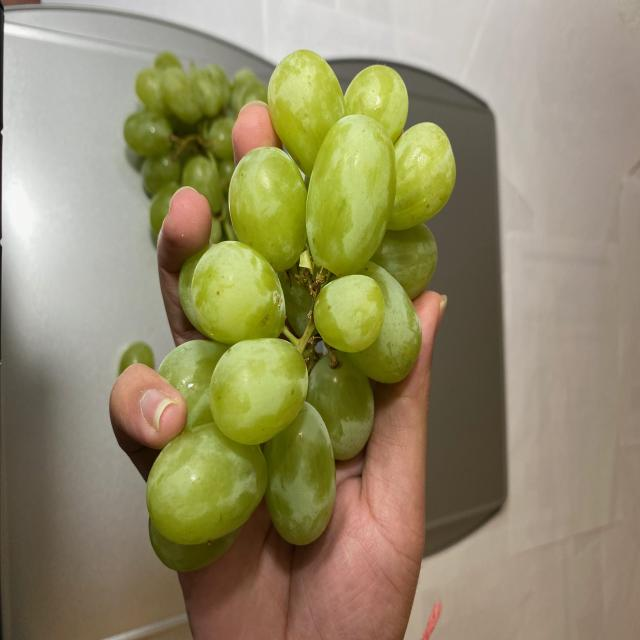grapes: (138, 45, 461, 573)
